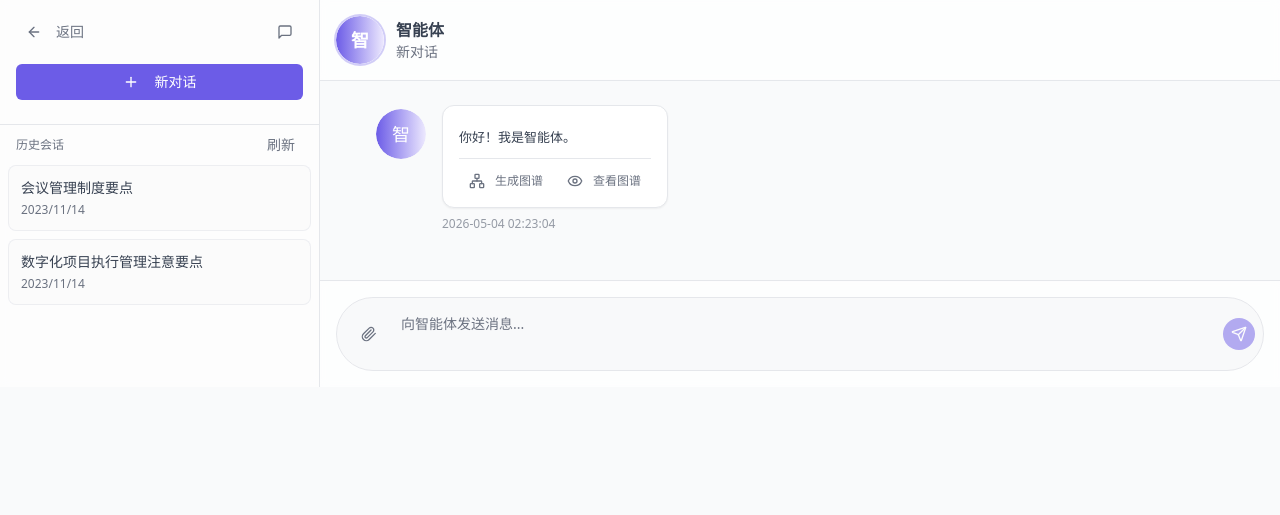
it: EnhancedChatWithSidebar › creates a clean new session after viewing history
The width and height of the screenshot is (1280, 515).
View history session 1
Click the heading "会议管理制度要点": (77, 188) [21,178,133,197]
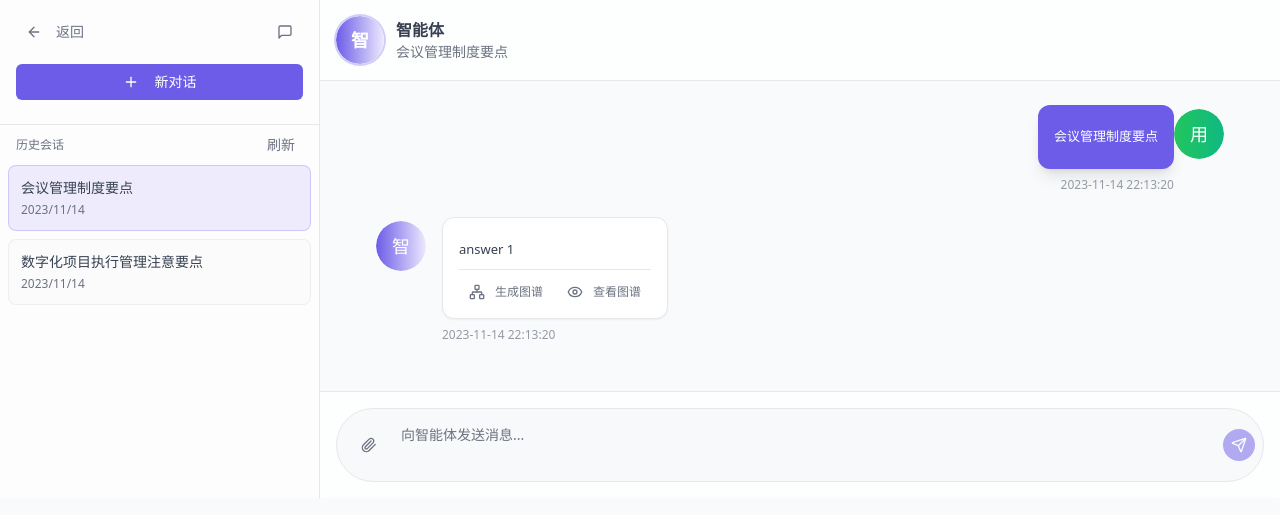
Result: the element with class "user-message" is shown at [1038,105,1174,168]
View history session 2
Click the heading "数字化项目执行管理注意要点": (122, 262) [21,252,222,272]
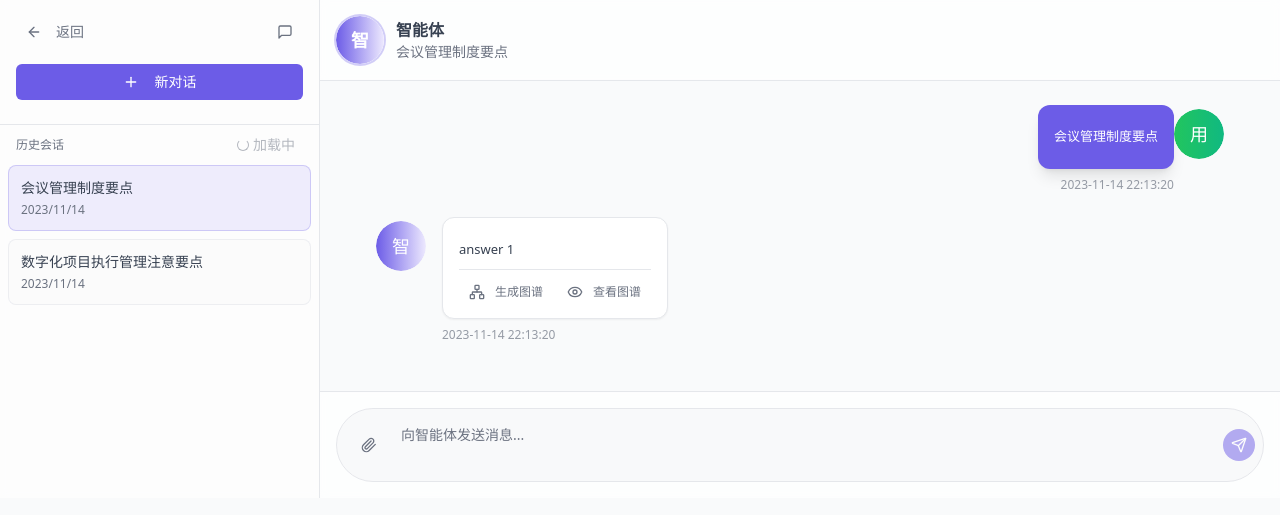
Result: the element with class "user-message" is shown at [1038,105,1174,168]
Create a new session: should not keep any user messages from history
Click the button "新对话": (160, 82) [16,64,303,100]
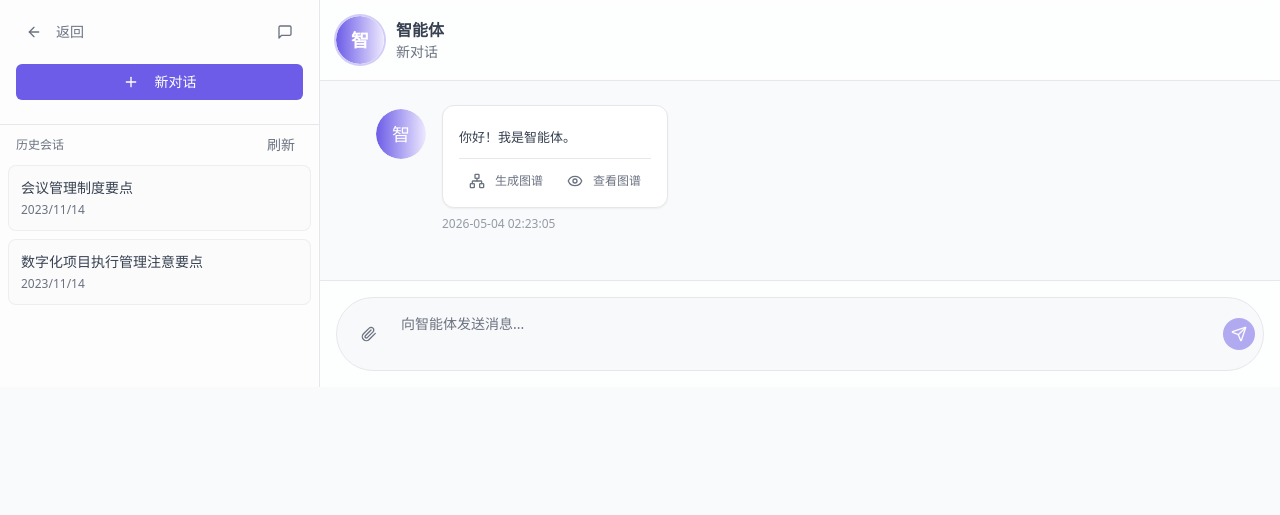
Result: no elements with class "user-message" are shown
